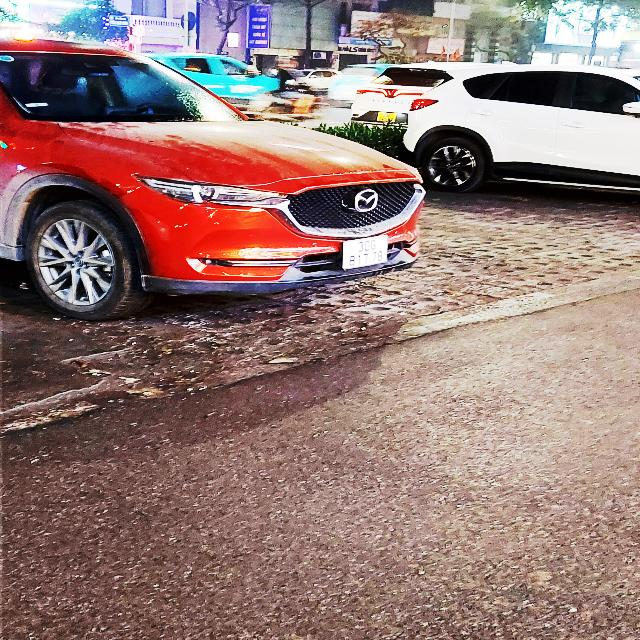license_plate: (341, 232, 392, 274)
